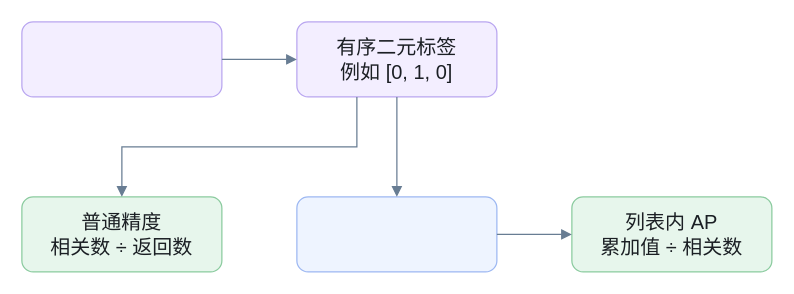
The diagram is 794 pixels wide and 294 high, and some of its shapes have lost their labels. The box of each missing label's shape, as (x1, y1, x2, y2) in pixels:
只在相关位置 计算并累加 P@i: (296, 196, 497, 272)
固定问题与参考 标注片段是否有用: (21, 21, 222, 97)
